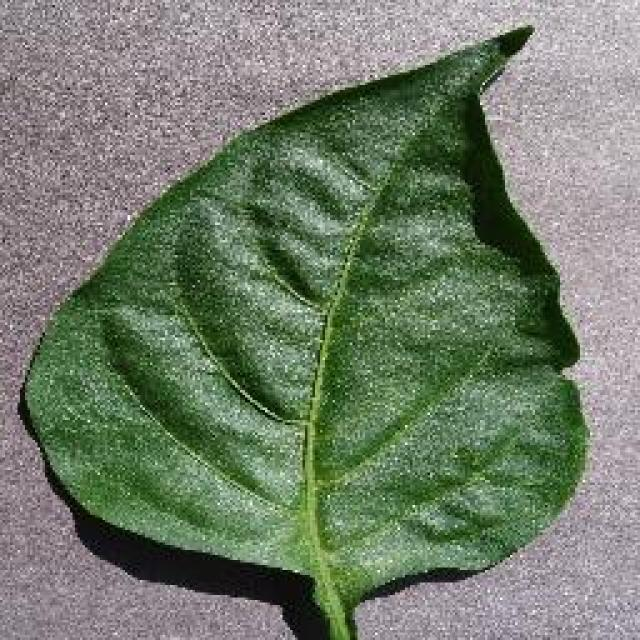Leaf: (44, 15, 640, 635)
